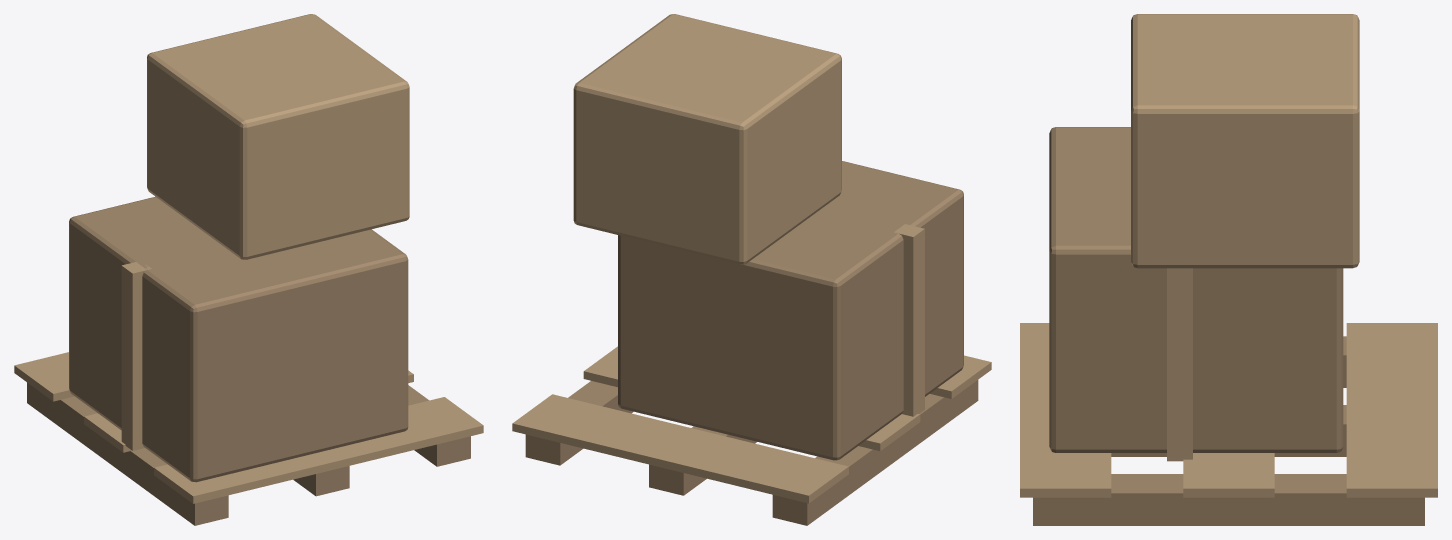
The model's file is bt-hw-pallet.glb.
The picture shows the model from 3 angles, left to right: view 1: azimuth 30°, elevation 25°; view 2: azimuth 150°, elevation 25°; view 3: azimuth 270°, elevation 25°; orthographic projection. The views are drawn at different scales.
Parts seen in each view (by area): view 1: bt-hw-pallet_crate1, bt-hw-pallet_crate2, bt-hw-pallet_deck2, bt-hw-pallet_str0, bt-hw-pallet_batten(-0.55, 0.15), bt-hw-pallet_deck0, bt-hw-pallet_str2, bt-hw-pallet_str1, bt-hw-pallet_deck1; view 2: bt-hw-pallet_crate1, bt-hw-pallet_crate2, bt-hw-pallet_deck0, bt-hw-pallet_str0, bt-hw-pallet_batten(-0.55, 0.15), bt-hw-pallet_str2, bt-hw-pallet_deck1, bt-hw-pallet_str1, bt-hw-pallet_deck2; view 3: bt-hw-pallet_crate1, bt-hw-pallet_crate2, bt-hw-pallet_deck0, bt-hw-pallet_str2, bt-hw-pallet_deck2, bt-hw-pallet_batten(0.35, 0.15), bt-hw-pallet_deck1, bt-hw-pallet_str1.
Boxes of the visible parts, x1,y1,x2,y2 form: bt-hw-pallet_crate1: (69,196,408,482); bt-hw-pallet_crate2: (147,14,409,259); bt-hw-pallet_deck2: (154,397,483,503); bt-hw-pallet_str0: (27,382,228,525); bt-hw-pallet_batten(-0.55, 0.15): (121,262,151,450); bt-hw-pallet_deck0: (14,352,74,401); bt-hw-pallet_str2: (408,385,470,466); bt-hw-pallet_str1: (293,466,349,496); bt-hw-pallet_deck1: (84,370,413,452); bt-hw-pallet_crate1: (618,161,963,460); bt-hw-pallet_crate2: (573,14,841,264); bt-hw-pallet_deck0: (512,394,848,503); bt-hw-pallet_str0: (772,380,978,525); bt-hw-pallet_batten(-0.55, 0.15): (894,224,924,416); bt-hw-pallet_str2: (525,381,633,465); bt-hw-pallet_deck1: (583,346,920,451); bt-hw-pallet_str1: (649,426,757,495); bt-hw-pallet_deck2: (930,355,991,398); bt-hw-pallet_crate1: (1049,127,1343,452); bt-hw-pallet_crate2: (1131,14,1359,268); bt-hw-pallet_deck0: (1346,323,1437,497); bt-hw-pallet_str2: (1033,474,1424,525); bt-hw-pallet_deck2: (1020,323,1111,497); bt-hw-pallet_batten(0.35, 0.15): (1167,268,1192,461); bt-hw-pallet_deck1: (1183,453,1274,497); bt-hw-pallet_str1: (1111,405,1346,456).
Size of the model in its own units: 1.2 by 1.38 by 1.28.
